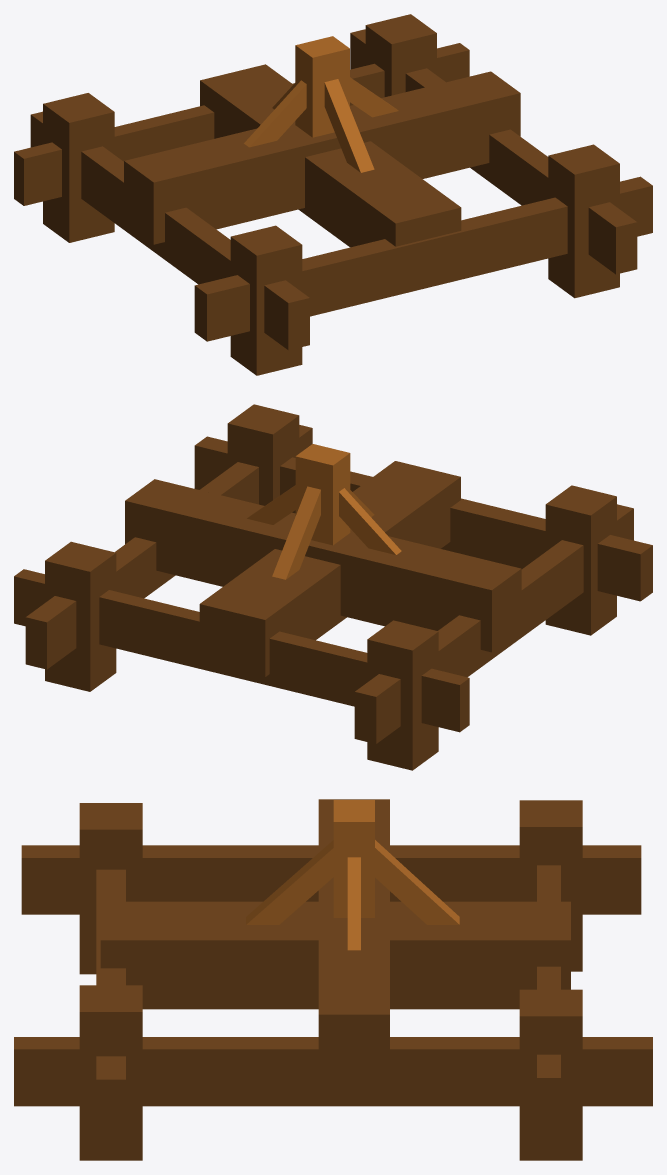
File: ballista.fbx
3 renders of one model, top to bottom at view 1: azimuth 30°, elevation 25°; view 2: azimuth 150°, elevation 25°; view 3: azimuth 270°, elevation 25°, orthographic. The views are drawn at different scales.
Visible parts, largest first — view 1: polySurface85; view 2: polySurface85; view 3: polySurface85.
Boxes of the visible parts, <box> form: polySurface85: <box>14,14,652,375</box>; polySurface85: <box>14,404,652,770</box>; polySurface85: <box>14,799,652,1160</box>.
Bounding box in the file's own units: 98.71 × 42.62 × 102.
1 material, 1 textured.
